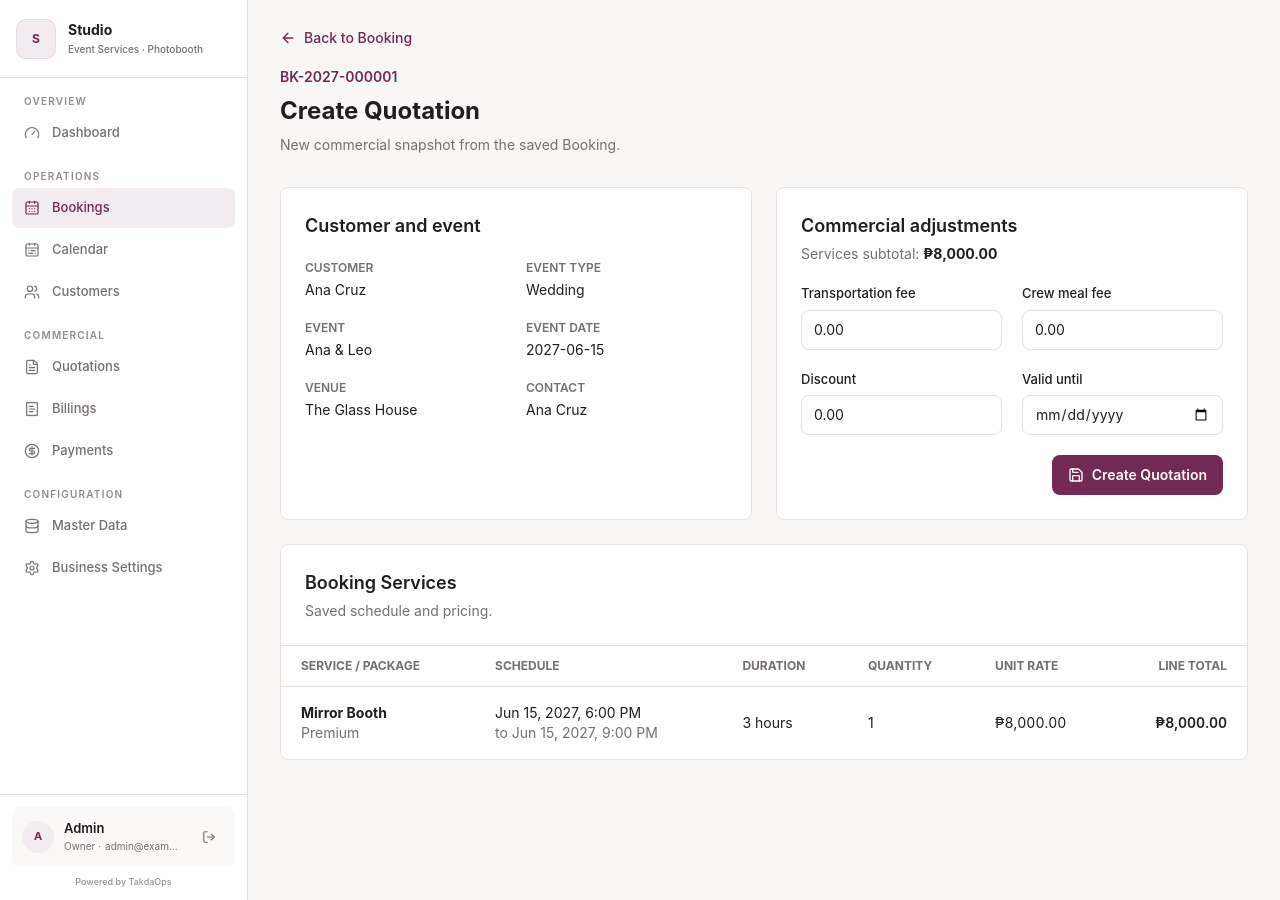
Test: surfaces backend Draft creation conflicts
This screenshot has width=1280, height=900.
Expected: the heading "Create Quotation" is shown, [280, 96, 480, 125]
Click the button "Create Quotation": coordinates (1137, 475) [1052, 455, 1223, 495]
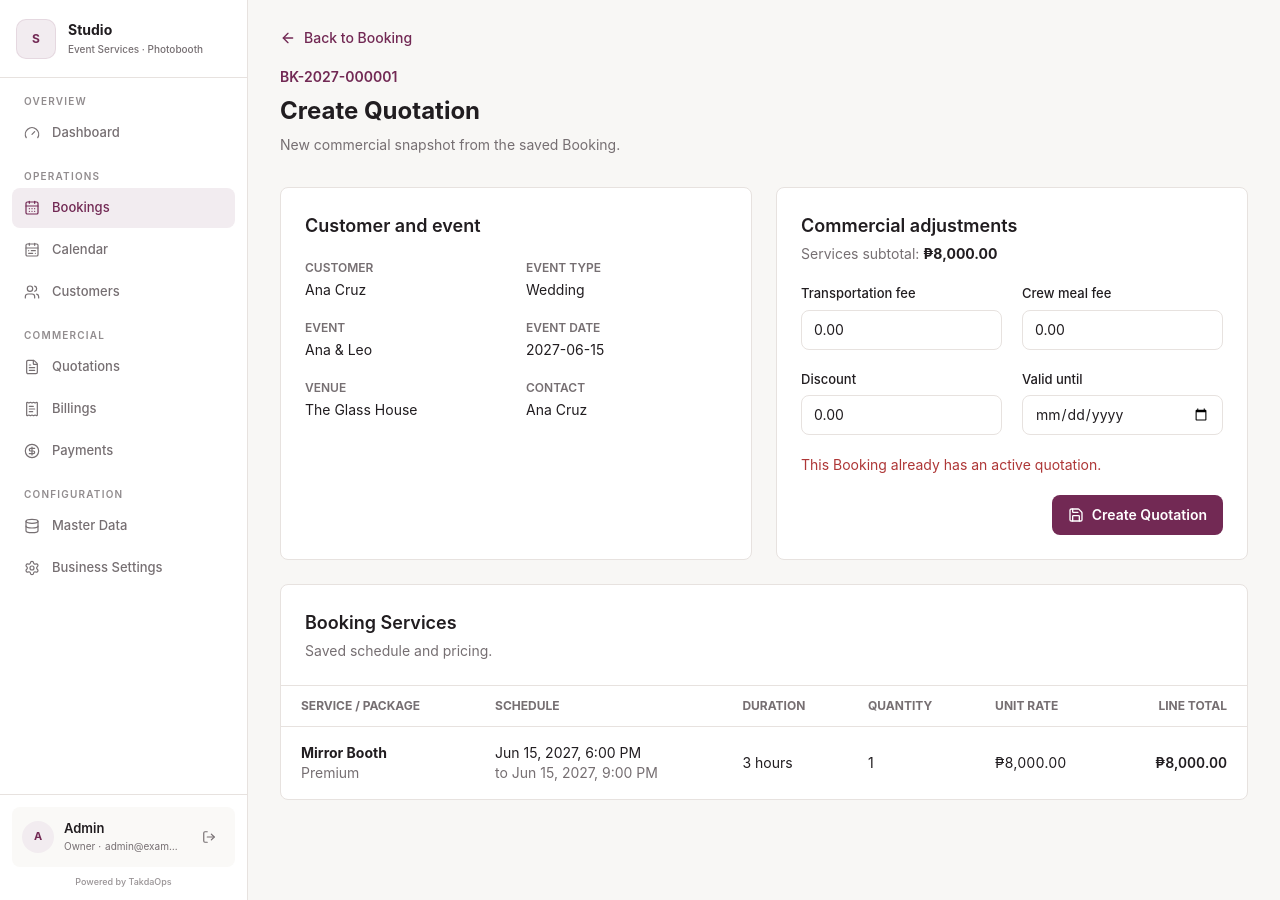
Expected: the message reads "This Booking already has an active quotation.", [801, 456, 1101, 473]
